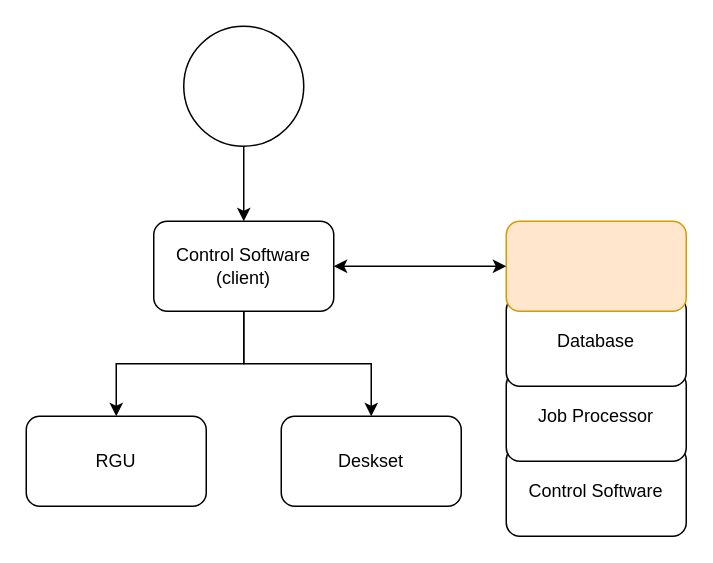
Some shapes in this 713 by 563 pixel diagram are drawn without their labels. Here are the shapes that lost their labels. From the top down, the box of each, then its label:
(182, 25, 304, 146): System Admin
(505, 220, 686, 311): Server
